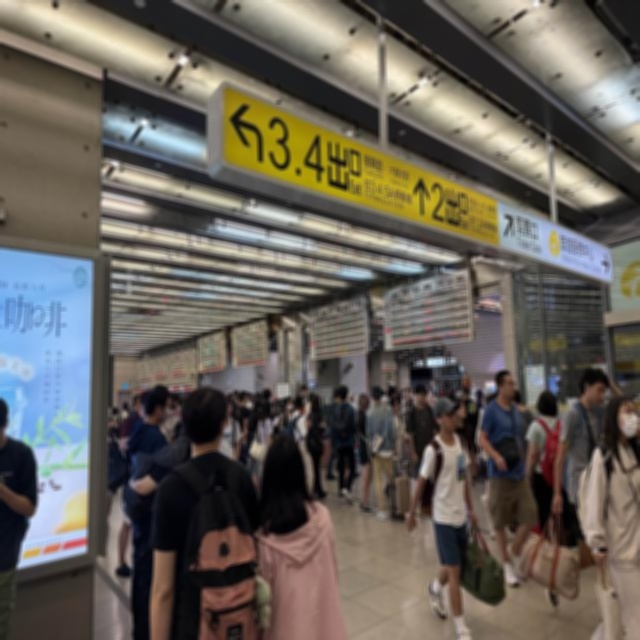Sin_Casco_Mascarrilla: (181, 387, 228, 445), (265, 438, 305, 494), (608, 395, 638, 441), (433, 398, 460, 433), (496, 370, 516, 401), (537, 391, 558, 419), (414, 384, 427, 403)
